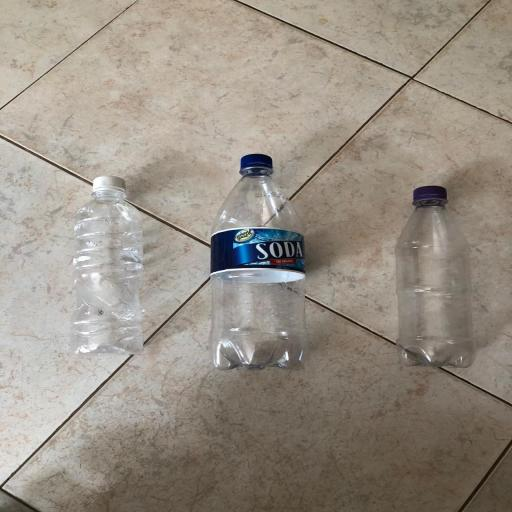waste: (189, 144, 339, 389), (58, 168, 164, 368), (389, 175, 491, 379)
